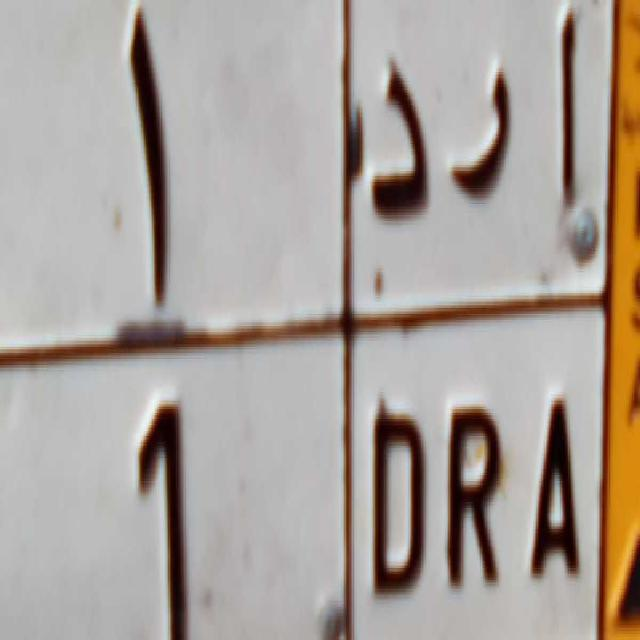license_plate: (4, 303, 602, 640)
